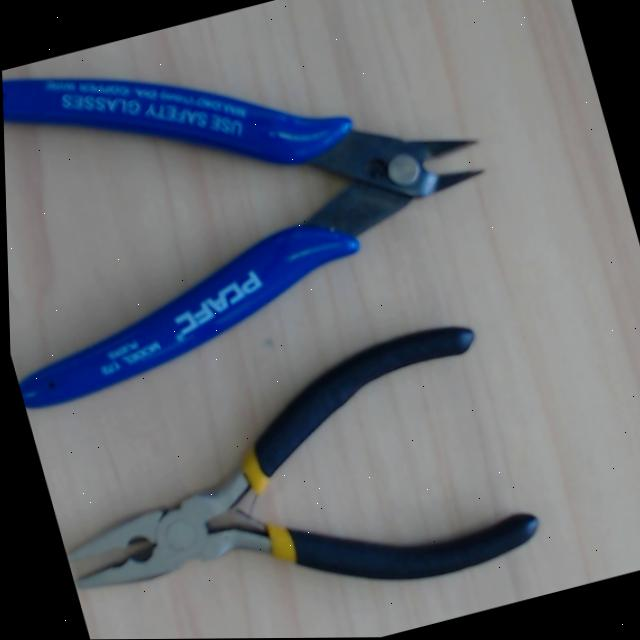Tang-Jepit-Hitam: (34, 314, 544, 640)
Tang-Potong-Biru: (2, 77, 481, 407)
